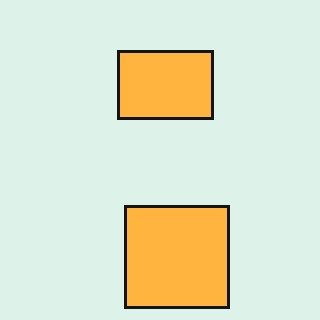square_target: (124, 206, 230, 308), (117, 50, 214, 120)
